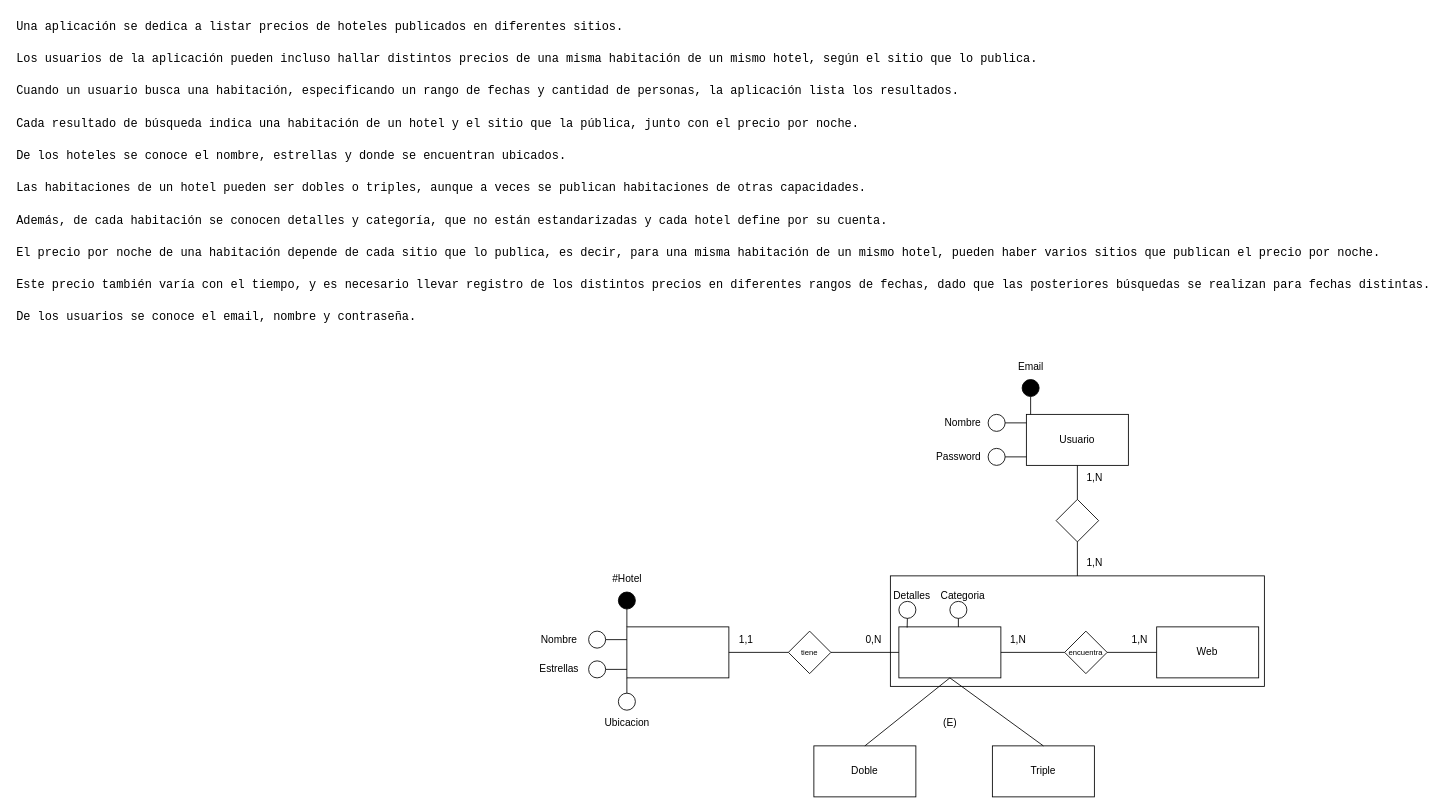
This 1452x812 diagram has some shape labels left out. Here are the shapes that lost their labels. From the top down, the centre of each, then its label:
(1077,520): busca
(677,652): Hotel
(949,652): Habitacion
